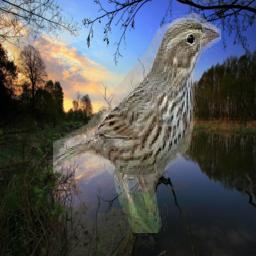Sparrow: (53, 11, 221, 233)
